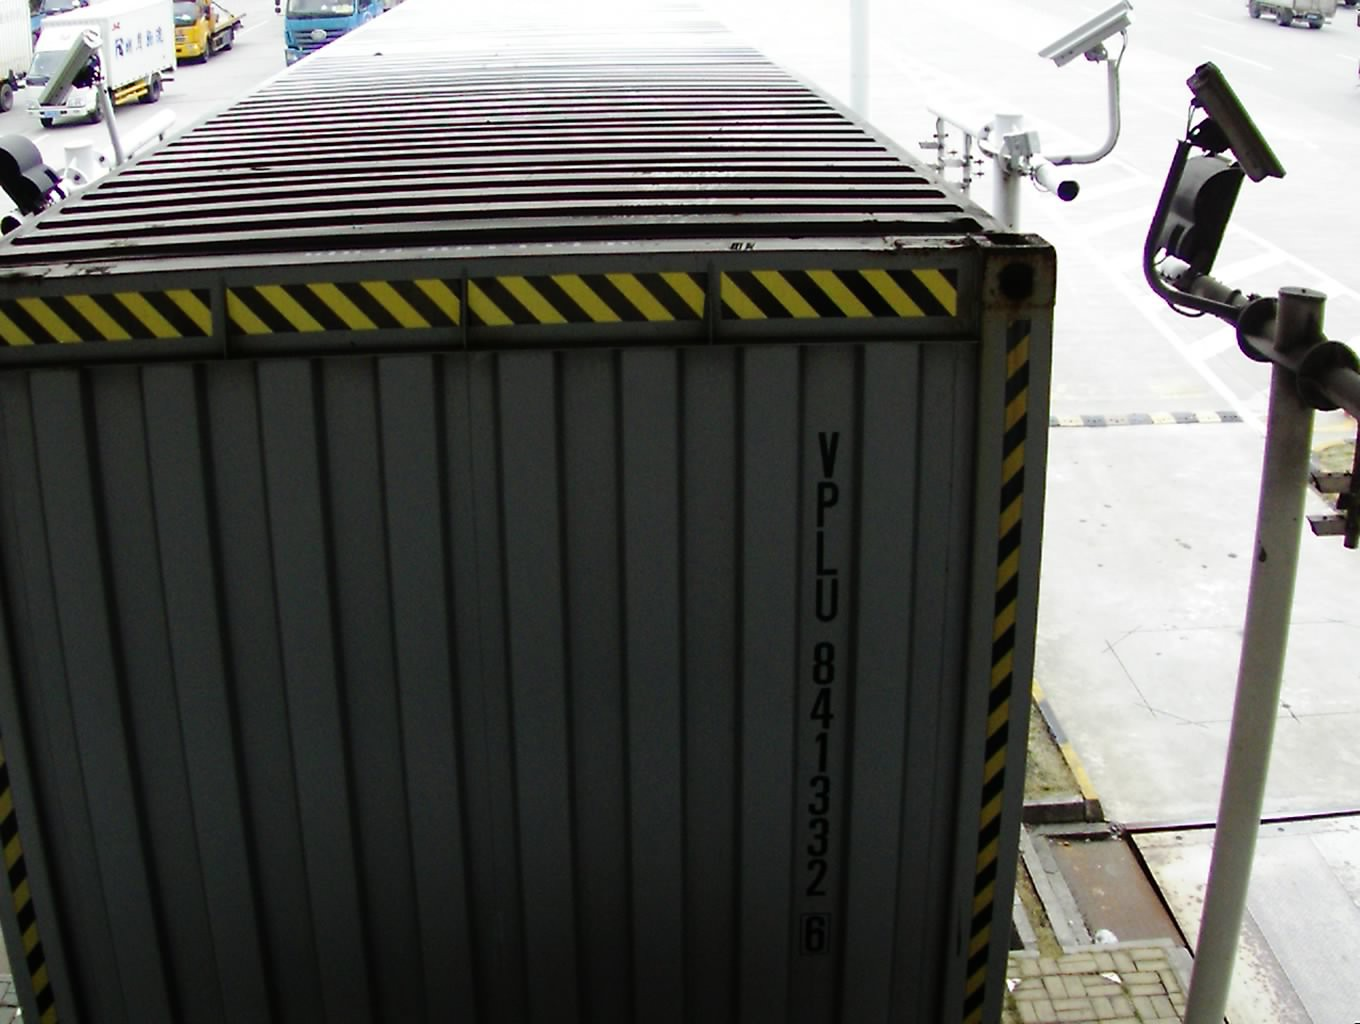words: (791, 416, 847, 965)
